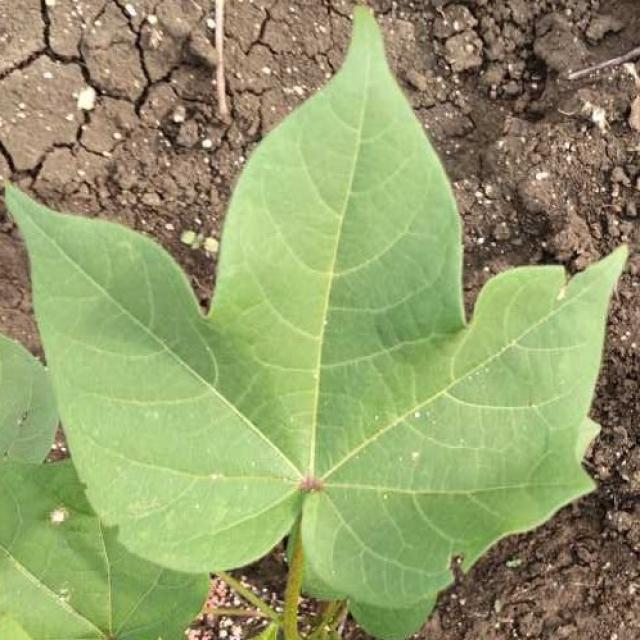Healthy Leaf: (11, 13, 640, 640)
